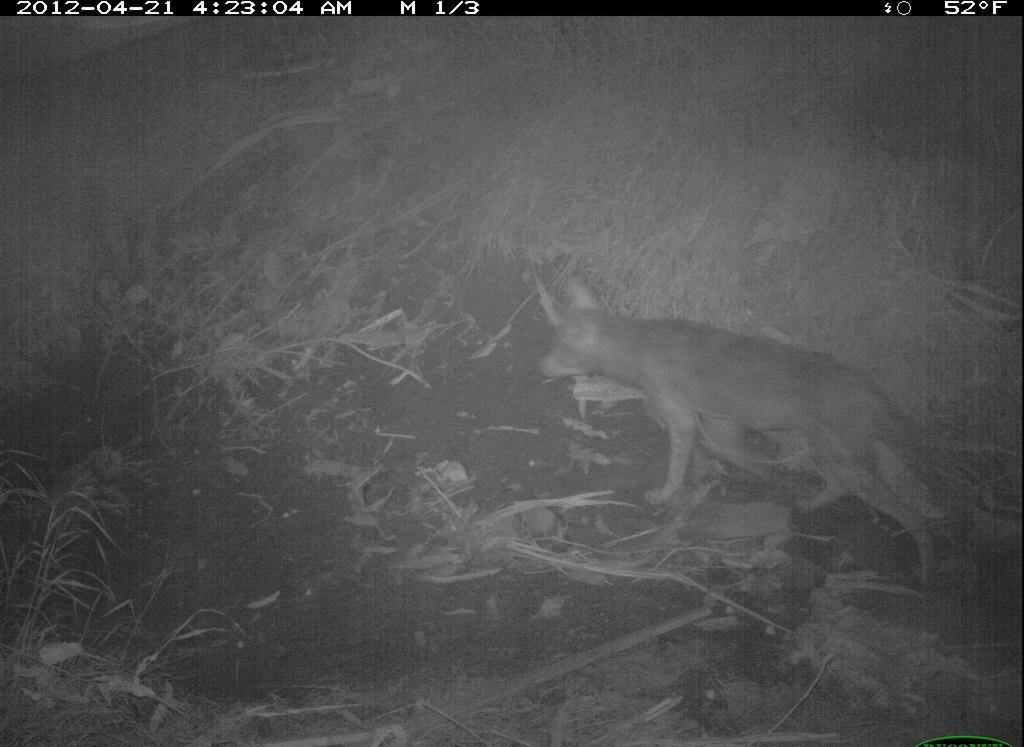coyote: (523, 259, 972, 591)
